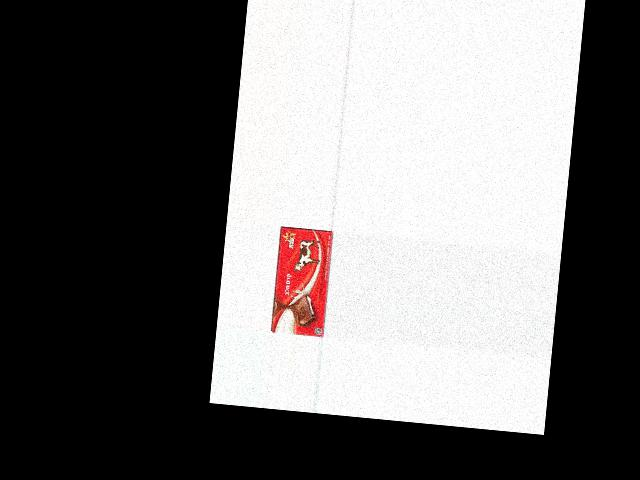chocolate: (270, 224, 334, 337)
